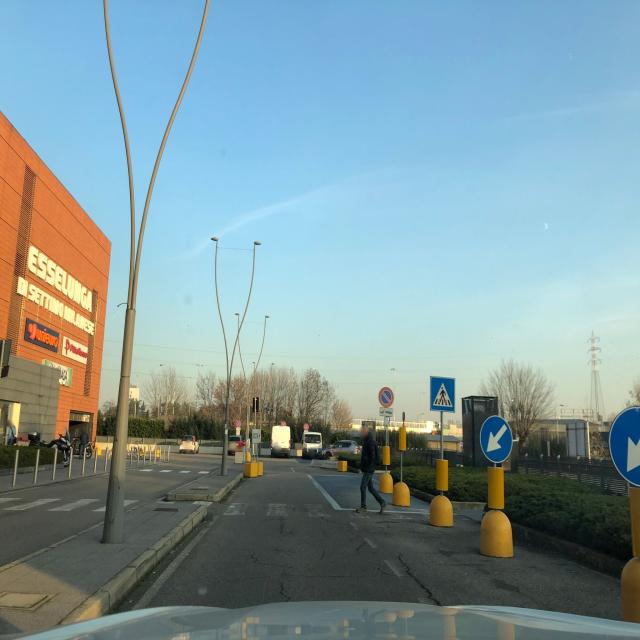forb_stopping: (380, 389, 393, 406)
